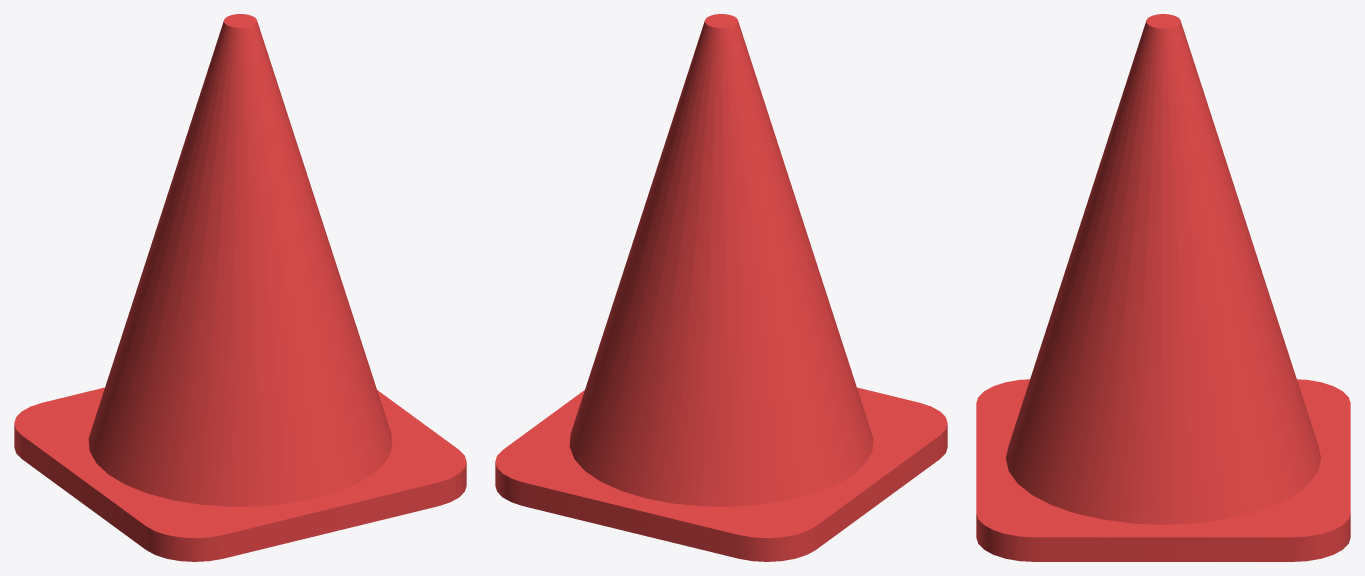
Rendered from coneBlue.fbx.
The picture shows the model from 3 angles, left to right: view 1: azimuth 30°, elevation 25°; view 2: azimuth 150°, elevation 25°; view 3: azimuth 270°, elevation 25°; orthographic projection. The views are drawn at different scales.
Parts seen in each view (by area): view 1: Cylinder; view 2: Cylinder; view 3: Cylinder.
Boxes of the visible parts, <box> form: Cylinder: <box>14,14,466,561</box>; Cylinder: <box>495,14,947,561</box>; Cylinder: <box>976,14,1350,561</box>.
Size of the model in its own units: 200 by 273 by 200.
